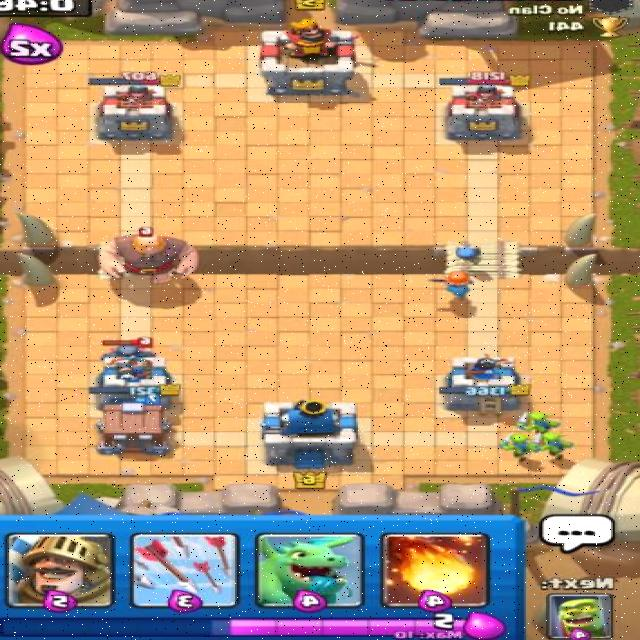Enemy-Giant: (92, 224, 203, 287)
Enemy-MiniPEKKA: (98, 335, 157, 366)
Player-Bomber: (450, 243, 485, 265)
Player-Goblin: (496, 425, 552, 461), (514, 409, 568, 435), (536, 428, 575, 462)
Player-GoblinCage: (85, 392, 181, 458)
Player-Valkyrie: (430, 268, 479, 302)
